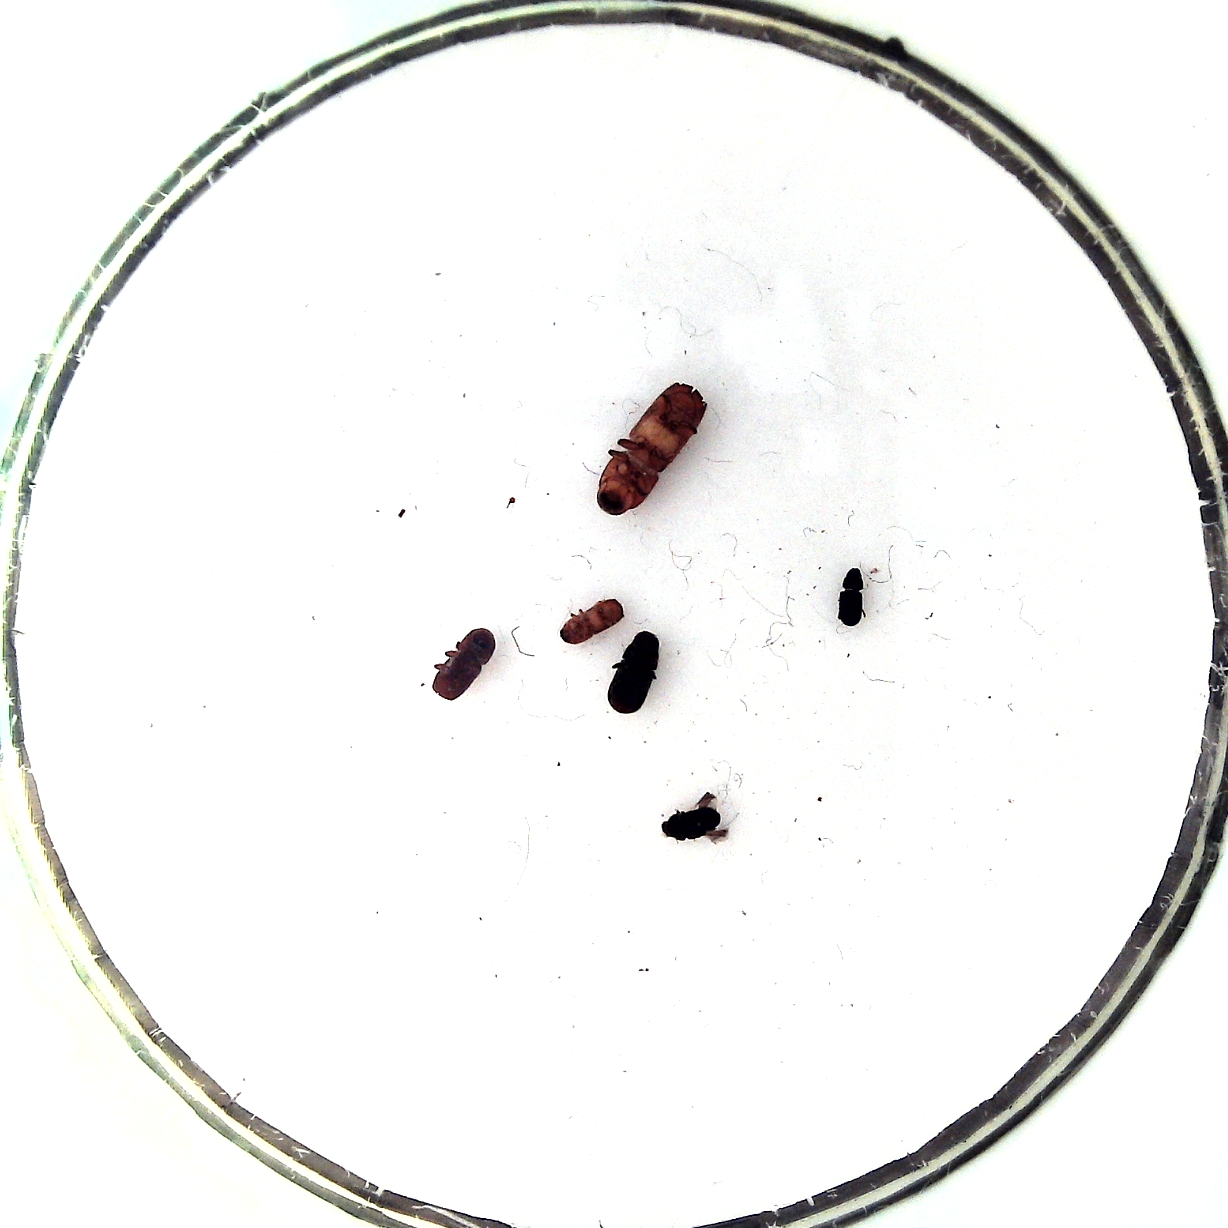Boerner: (596, 382, 708, 517)
acuminatus: (660, 806, 721, 841), (837, 568, 865, 626)
armandi: (608, 631, 660, 714)
coleoptera: (560, 598, 625, 644)
linnaeus: (433, 627, 495, 699)
